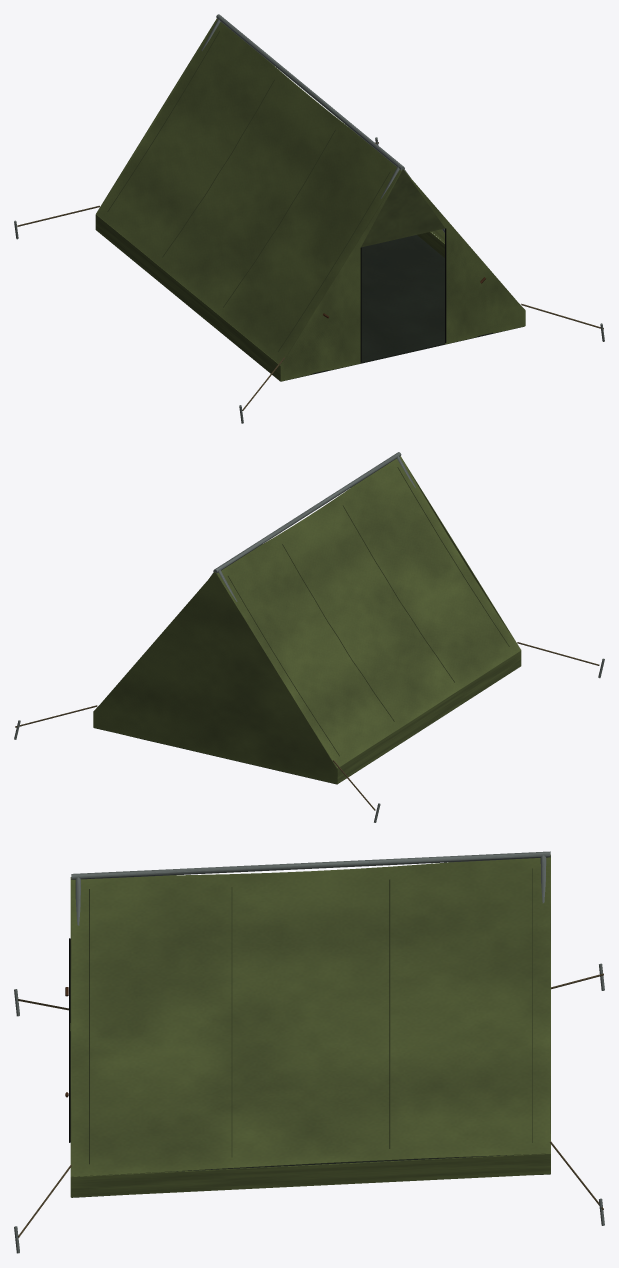
File: level_camp_tent_fitted_pitch_05.glb
3 renders of one model, top to bottom at view 1: azimuth 30°, elevation 25°; view 2: azimuth 150°, elevation 25°; view 3: azimuth 270°, elevation 25°, orthographic. The views are drawn at different scales.
Parts seen in each view (by area): view 1: level_camp_tent_fitted_pitch_05; view 2: level_camp_tent_fitted_pitch_05; view 3: level_camp_tent_fitted_pitch_05.
Part boxes in pixels (x1,y1,x2,y2): level_camp_tent_fitted_pitch_05: [14, 14, 604, 423]; level_camp_tent_fitted_pitch_05: [14, 452, 604, 822]; level_camp_tent_fitted_pitch_05: [14, 851, 604, 1253].
Size of the model in its own units: 3.9 by 2.25 by 4.19.
8 materials, 8 textured.
